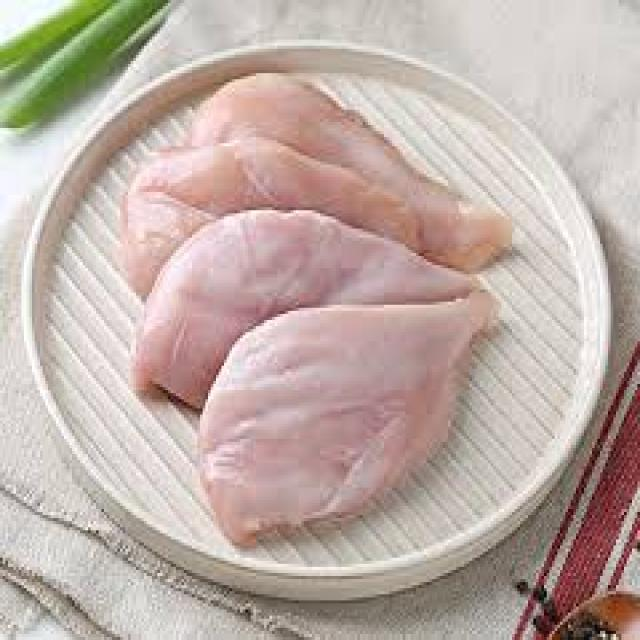chicken: (198, 292, 502, 546), (137, 206, 480, 410), (191, 65, 508, 277), (119, 131, 428, 301)
